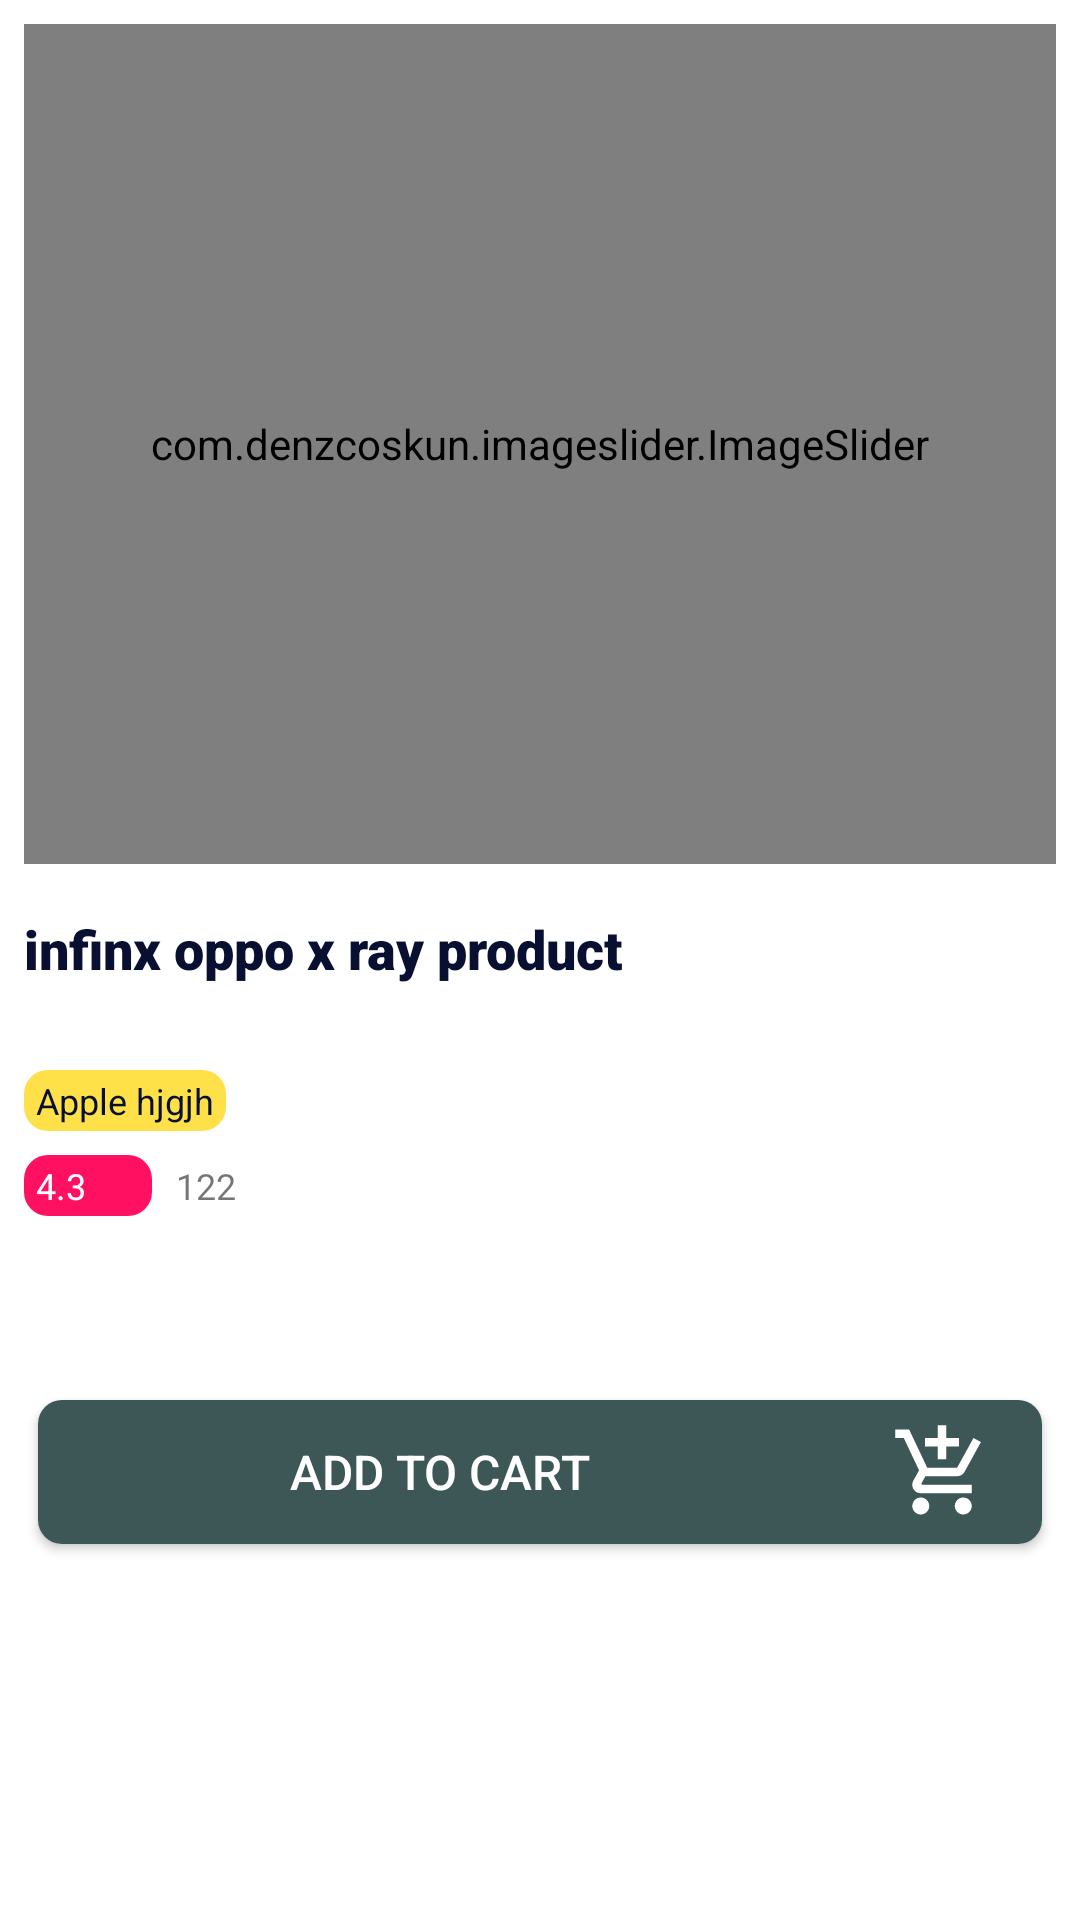

Named icons in this screenshot (1080 × 1920) and their centers, (x=x, y=y):
add shopping cart: (x=941, y=1472)
